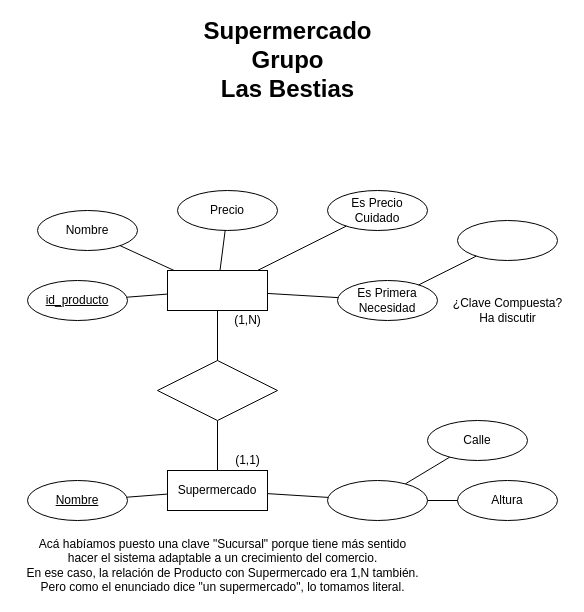
Image size: 584x612. Some labels were removed from this diagram. The shapes that lost their labels are listed below. From the top down, each one's centre as x and y in pixels, then its label:
At [507,240]: "Descuento".
At [217,290]: "Producto".
At [217,390]: "Cataloga".
At [377,500]: "Dirección".
